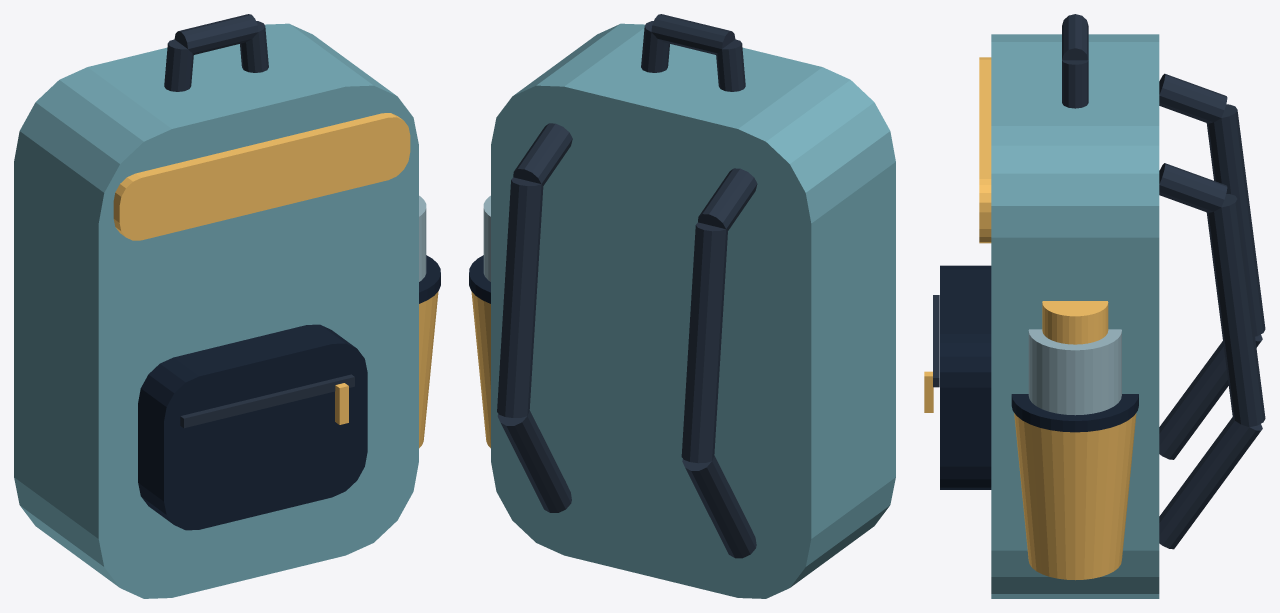
File: backpack.glb
3 renders of one model, left to right at view 1: azimuth 30°, elevation 25°; view 2: azimuth 150°, elevation 25°; view 3: azimuth 270°, elevation 25°, orthographic.
Parts seen in each view (by area): view 1: fabric shell, front pocket, lid binding, zip, carry loop1, side pocket, carry loop0, carry loop2, pocket rim, bottle neck, zip pull; view 2: fabric shell, strap -0.341, strap 0.341, strap -0.342, strap 0.342, carry loop1, strap -0.340, strap 0.340, side pocket, carry loop0, carry loop2, pocket rim (+1 smaller); view 3: fabric shell, side pocket, front pocket, strap 0.341, bottle neck, strap 0.342, strap -0.341, strap -0.342, cap, pocket rim, lid binding, strap -0.340 (+4 smaller).
Part boxes in pixels (box(x1,y1,x2,y2)): fabric shell: box(14, 23, 418, 598); front pocket: box(138, 324, 367, 530); lid binding: box(113, 113, 410, 240); zip: box(180, 374, 354, 428); carry loop1: box(174, 14, 258, 54); side pocket: box(419, 291, 438, 448); carry loop0: box(164, 39, 193, 91); carry loop2: box(240, 21, 268, 72); pocket rim: box(419, 255, 440, 303); bottle neck: box(419, 195, 426, 281); zip pull: box(335, 383, 348, 424); fabric shell: box(491, 23, 895, 598); strap -0.341: box(681, 222, 727, 463); strap 0.341: box(497, 177, 543, 417); strap -0.342: box(682, 455, 756, 558); strap 0.342: box(497, 410, 571, 512); carry loop1: box(651, 14, 735, 54); strap -0.340: box(698, 168, 757, 230); strap 0.340: box(513, 123, 572, 185); side pocket: box(471, 291, 490, 448); carry loop0: box(716, 39, 745, 91); carry loop2: box(641, 21, 669, 72); pocket rim: box(469, 255, 490, 303); fabric shell: box(991, 34, 1159, 598); side pocket: box(1014, 413, 1136, 580); front pocket: box(940, 265, 991, 489); strap 0.341: box(1206, 194, 1265, 427); bottle neck: box(1028, 329, 1121, 415); strap 0.342: box(1159, 417, 1262, 549); strap -0.341: box(1206, 104, 1265, 336); strap -0.342: box(1159, 334, 1262, 459); cap: box(1042, 301, 1108, 344); pocket rim: box(1011, 394, 1138, 432); lid binding: box(979, 57, 991, 243); strap -0.340: box(1159, 73, 1227, 123).
Size of the model in its own units: 1.38 by 1.84 by 1.1.
